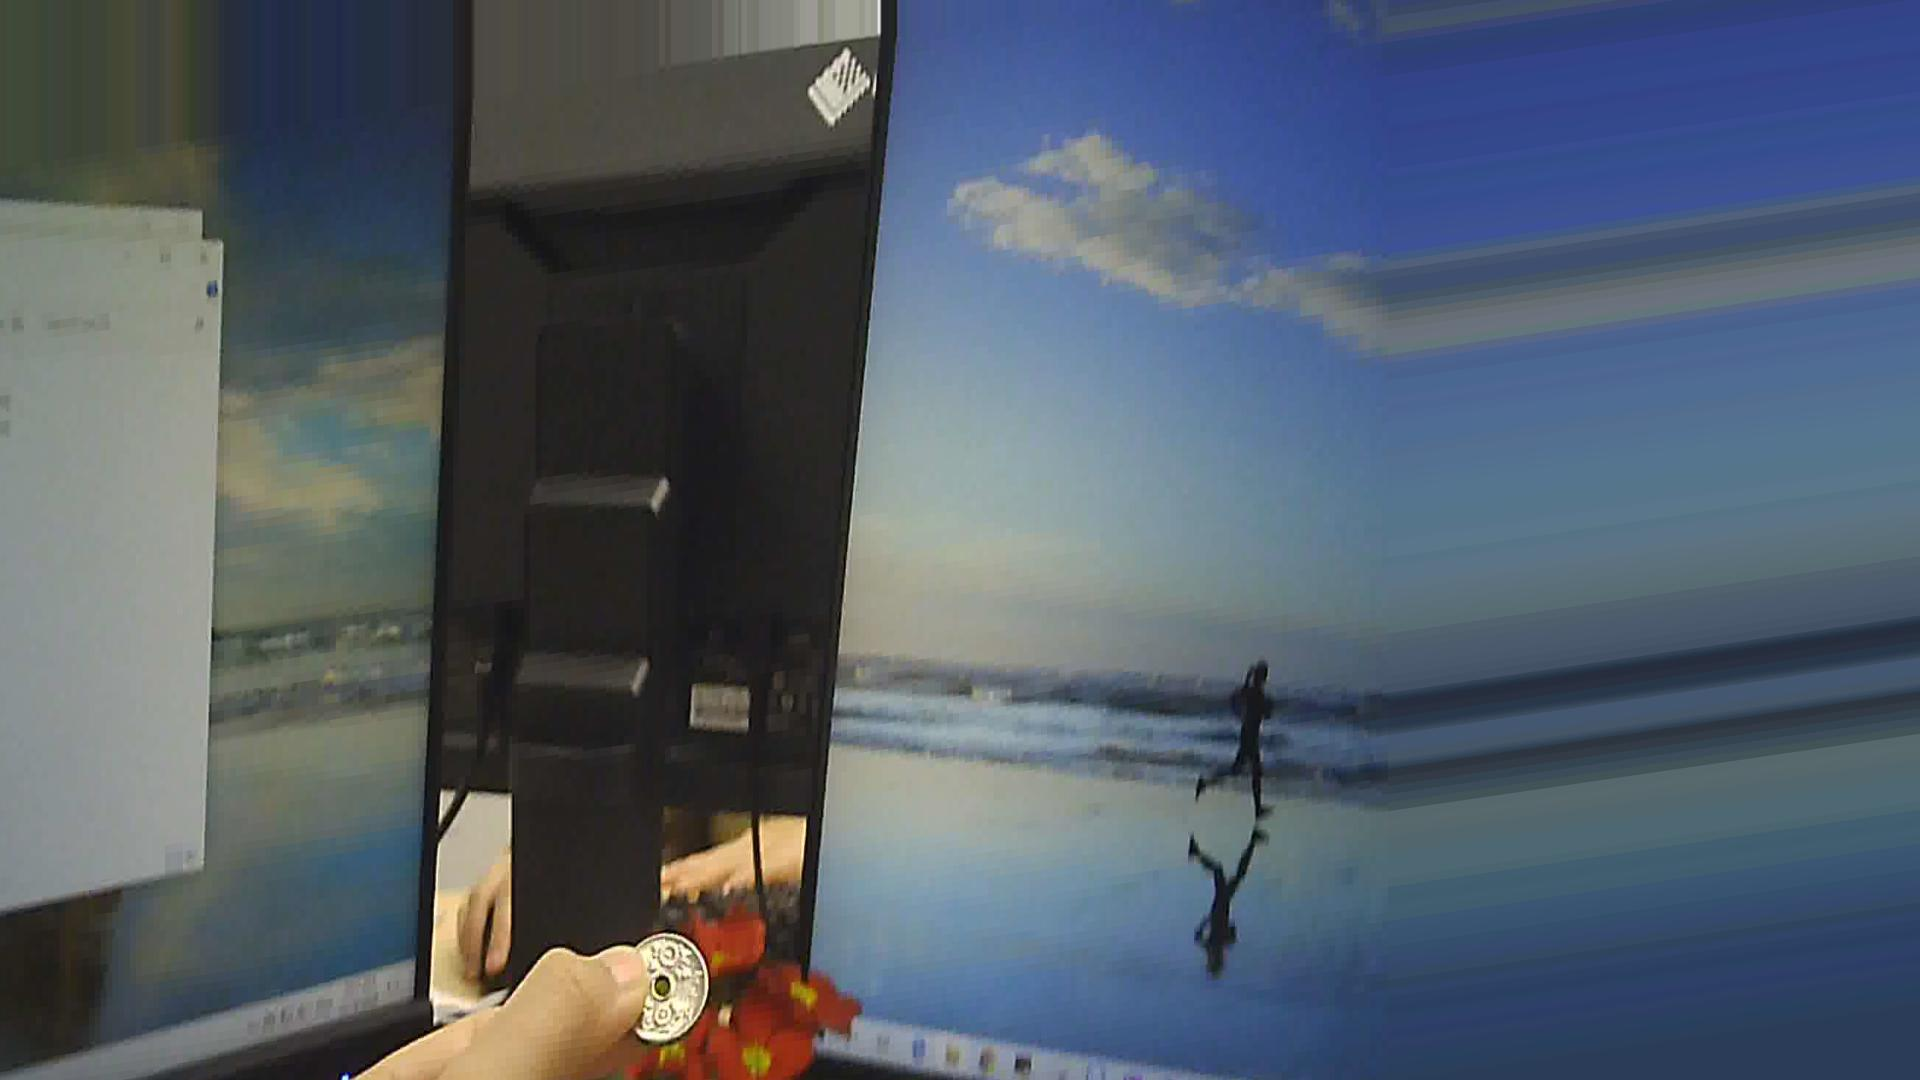50 Yen: (622, 928, 716, 1044)
